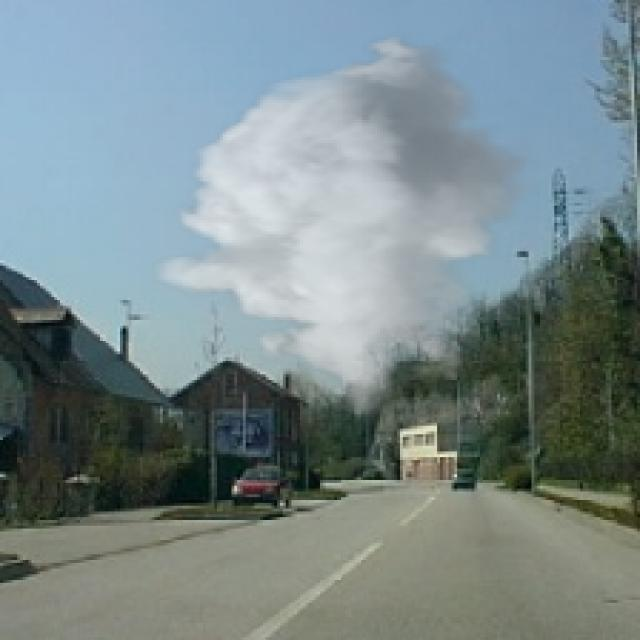Smoke: (151, 32, 540, 417)
